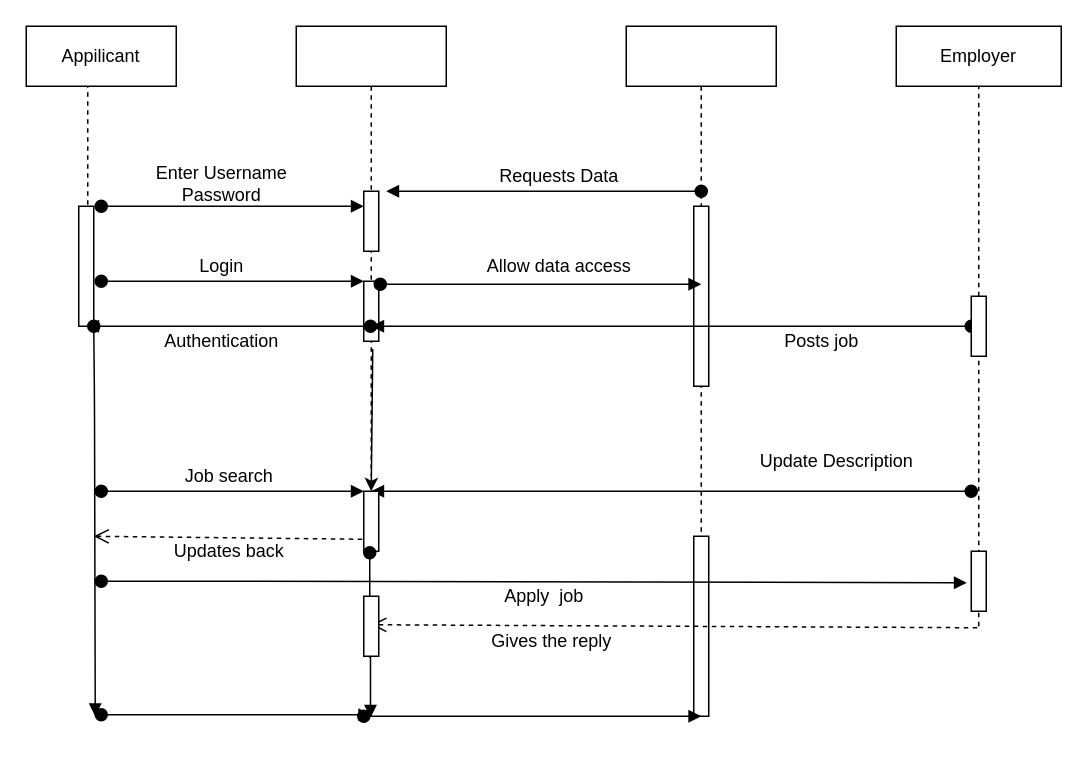
Image size: 1088x759. Some labels were removed from this diagram. The shapes that lost their labels are listed below. From the top down, each one's box as (x1, y1, x2, y2) in pixels, then its label:
(295, 25, 446, 476): Database
(625, 25, 776, 701): Admin
